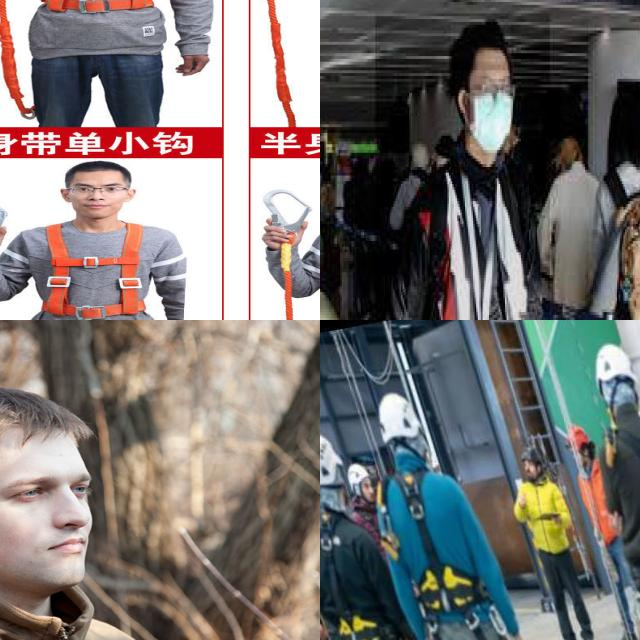Ear-protection: (0, 384, 112, 607)
Harness: (398, 474, 488, 614), (34, 222, 149, 317)
No_Glasses: (0, 451, 98, 515)
face_mask: (470, 70, 511, 153)
head_nohelmet: (451, 24, 512, 64)
person: (375, 13, 551, 320)
